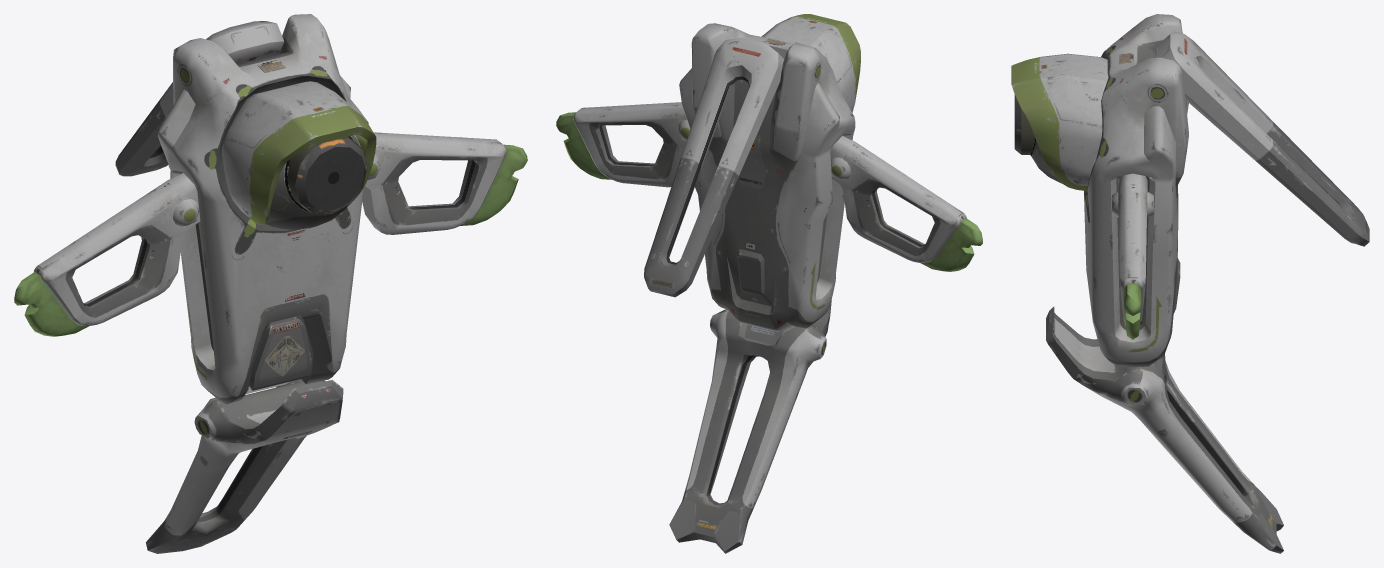
The model's file is crypto.obj.
The picture shows the model from 3 angles, left to right: view 1: azimuth 30°, elevation 25°; view 2: azimuth 150°, elevation 25°; view 3: azimuth 270°, elevation 25°; orthographic projection. The views are drawn at different scales.
Visible parts, largest first — view 1: crypto_drone_holo; view 2: crypto_drone_holo; view 3: crypto_drone_holo.
Part boxes in pixels (x1,y1,x2,y2): crypto_drone_holo: (14,14,527,553); crypto_drone_holo: (556,14,982,553); crypto_drone_holo: (1011,14,1369,553).
Bounding box in the file's own units: 12.95 × 13.65 × 8.83.
